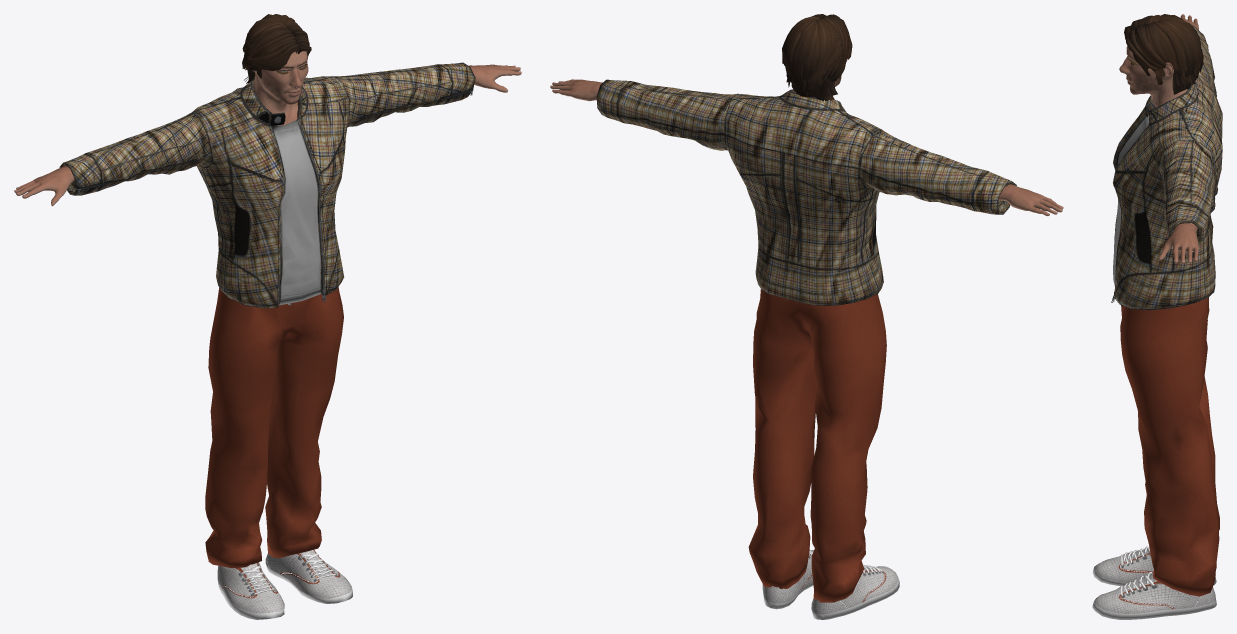
Rendered from MarianoEdited.fbx.
3 views of the same model, side by side, from view 1: azimuth 30°, elevation 25°; view 2: azimuth 150°, elevation 25°; view 3: azimuth 270°, elevation 25° (orthographic).
Parts seen in each view (by area): view 1: Mariano; view 2: Mariano; view 3: Mariano.
Boxes of the visible parts, bbox=[...] form: Mariano: bbox=[14, 14, 521, 619]; Mariano: bbox=[550, 14, 1063, 619]; Mariano: bbox=[1092, 14, 1222, 619].
Bounding box in the file's own units: 18082 × 19489 × 3983.
Materials: 5 (5 with a texture image).
